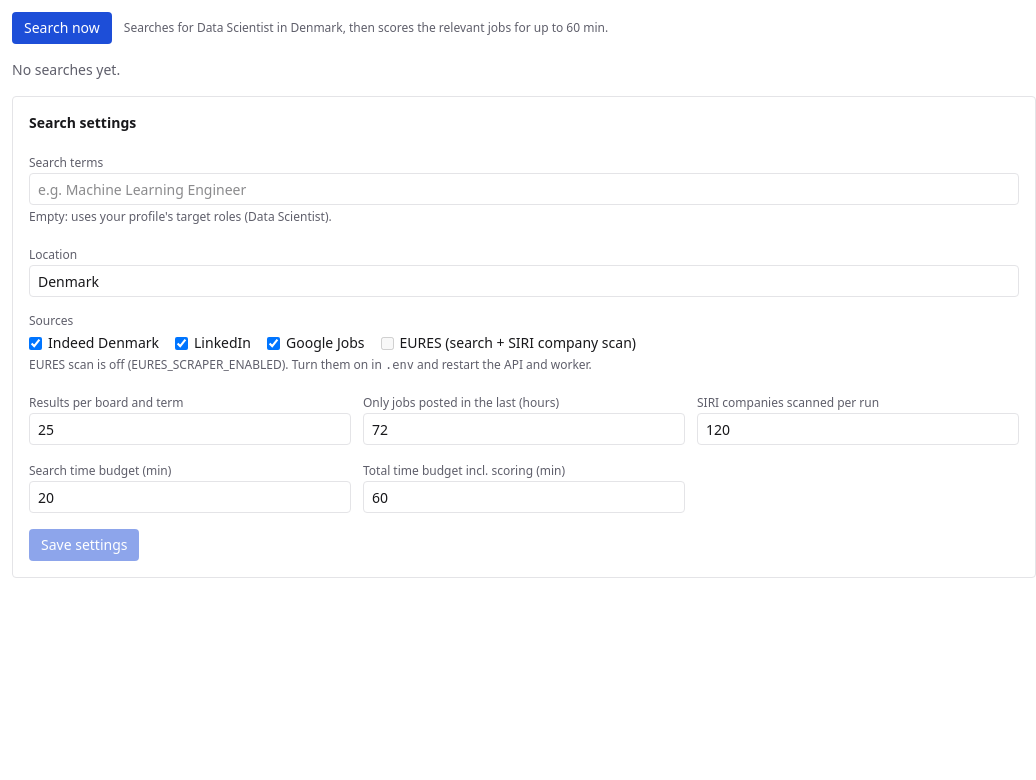
Test case: DiscoverView › starts a search with the profile's roles
Check: the text "No searches yet." is shown, box [12,60,120,79]
Check: the text "Searches for Data Scientist in Denmark" is shown, box [124,19,608,36]
Step 1. Click the button "Search now" → (62, 28), box [12,12,112,44]
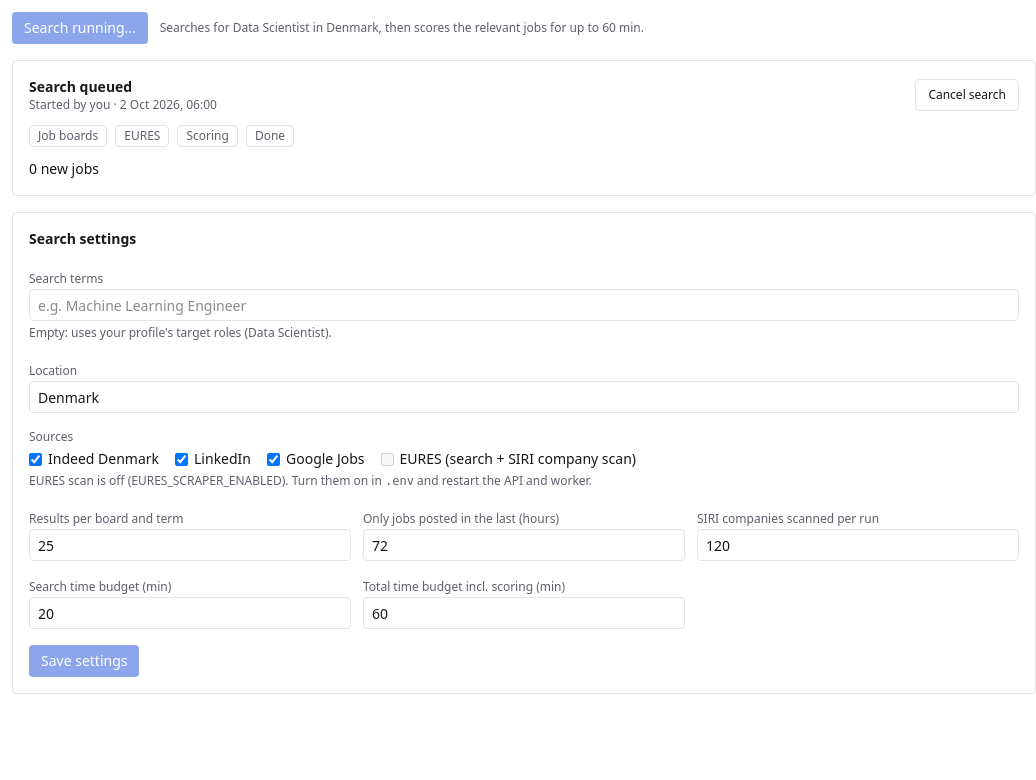
Check: the heading "Search queued" is shown, box [29,77,132,96]
Check: the button "Search running…" is disabled, box [12,12,148,44]
